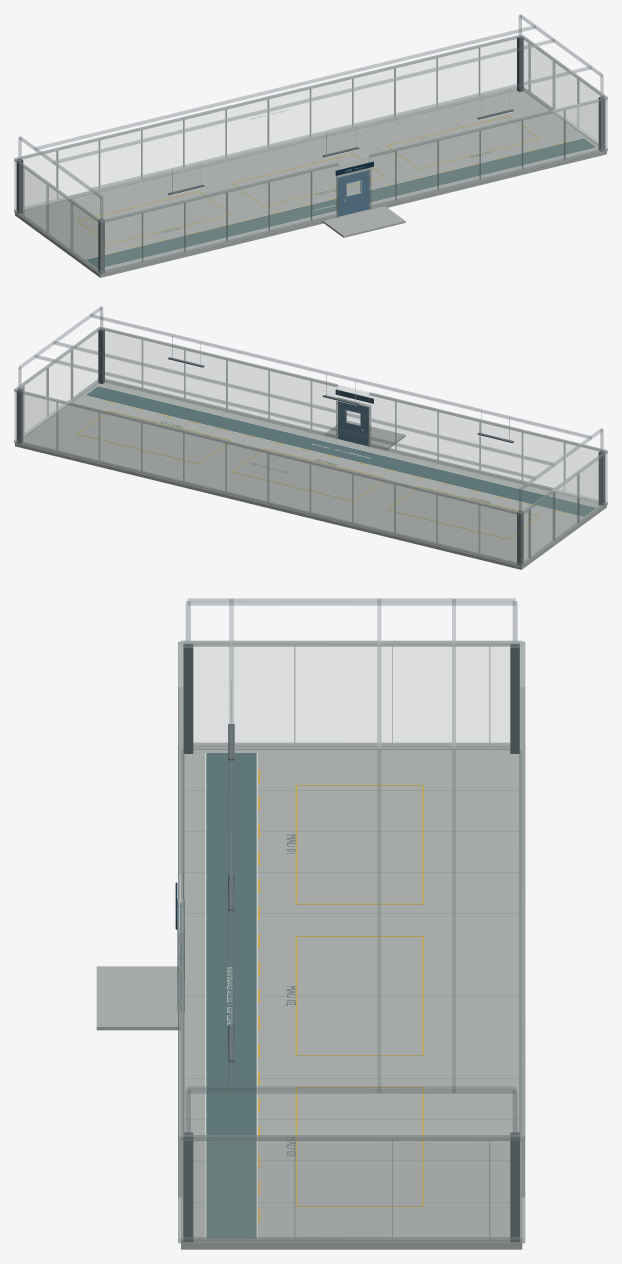
Rendered from fab1-room-mau-north.glb.
3 renders of one model, top to bottom at view 1: azimuth 30°, elevation 25°; view 2: azimuth 150°, elevation 25°; view 3: azimuth 270°, elevation 25°, orthographic. The views are drawn at different scales.
Visible parts, largest first — view 1: FAB1_Room_mau_north_Slab, FAB1_Room_mau_north_OuterWall, FAB1_Room_mau_north_CorridorWall_-18, FAB1_Room_mau_north_CorridorWall_1.1, FAB1_Room_mau_north_ServiceAisle, FAB1_Room_mau_north_SideWall_-18, FAB1_Room_mau_north_SideWall_18, FAB1_Room_mau_north_RoofBeam_7.6, FAB1_Room_mau_north_RoofBeam_3.05, FAB1_Room_mau_north_RoofBeam_9.9, FAB1_Room_mau_north_WallBand_12_0_3.58, FAB1_Room_mau_north_WallBand_12_0_0.09 (+17 smaller); view 2: FAB1_Room_mau_north_Slab, FAB1_Room_mau_north_OuterWall, FAB1_Room_mau_north_CorridorWall_1.1, FAB1_Room_mau_north_CorridorWall_-18, FAB1_Room_mau_north_ServiceAisle, FAB1_Room_mau_north_SideWall_-18, FAB1_Room_mau_north_SideWall_18, FAB1_Room_mau_north_WallBand_12_0_0.09, FAB1_Room_mau_north_RoofBeam_3.05, FAB1_Room_mau_north_RoofBeam_7.6, FAB1_Room_mau_north_RoofBeam_9.9, FAB1_Room_mau_north_WallBand_12_0_3.58 (+18 smaller); view 3: FAB1_Room_mau_north_Slab, FAB1_Room_mau_north_SideWall_18, FAB1_Room_mau_north_SideWall_-18, FAB1_Room_mau_north_ServiceAisle, FAB1_Room_mau_north_EntryApron, FAB1_Room_mau_north_WallBand_12_0_3.58, FAB1_Room_mau_north_SideBand_18_0_0.09, FAB1_Room_mau_north_RoofSideBeam_17.78, FAB1_Room_mau_north_RoofSideBeam_-17.78, FAB1_Room_mau_north_SideBand_-18_0_0.09, FAB1_Room_mau_north_RoofBeam_3.05, FAB1_Room_mau_north_SideBand_-18_0_3.58 (+11 smaller).
Boxes of the visible parts, x1,y1,x2,y2 form: FAB1_Room_mau_north_Slab: (15,90,606,277); FAB1_Room_mau_north_OuterWall: (15,35,518,208); FAB1_Room_mau_north_CorridorWall_-18: (100,163,338,272); FAB1_Room_mau_north_CorridorWall_1.1: (369,98,606,206); FAB1_Room_mau_north_ServiceAisle: (86,138,595,268); FAB1_Room_mau_north_SideWall_-18: (14,159,99,274); FAB1_Room_mau_north_SideWall_18: (523,36,607,148); FAB1_Room_mau_north_RoofBeam_7.6: (53,39,554,163); FAB1_Room_mau_north_RoofBeam_3.05: (90,66,591,190); FAB1_Room_mau_north_RoofBeam_9.9: (35,25,535,150); FAB1_Room_mau_north_WallBand_12_0_3.58: (15,35,520,160); FAB1_Room_mau_north_WallBand_12_0_0.09: (15,87,516,211); FAB1_Room_mau_north_Slab: (15,382,606,569); FAB1_Room_mau_north_OuterWall: (15,390,521,563); FAB1_Room_mau_north_CorridorWall_1.1: (104,328,337,437); FAB1_Room_mau_north_CorridorWall_-18: (369,392,606,500); FAB1_Room_mau_north_ServiceAisle: (86,386,595,516); FAB1_Room_mau_north_SideWall_-18: (522,453,607,566); FAB1_Room_mau_north_SideWall_18: (14,328,98,440); FAB1_Room_mau_north_WallBand_12_0_0.09: (14,440,521,566); FAB1_Room_mau_north_RoofBeam_3.05: (90,314,591,438); FAB1_Room_mau_north_RoofBeam_7.6: (53,341,554,465); FAB1_Room_mau_north_RoofBeam_9.9: (35,355,535,479); FAB1_Room_mau_north_WallBand_12_0_3.58: (14,389,521,515); FAB1_Room_mau_north_Slab: (181,749,522,1249); FAB1_Room_mau_north_SideWall_18: (181,1135,521,1243); FAB1_Room_mau_north_SideWall_-18: (184,641,518,749); FAB1_Room_mau_north_ServiceAisle: (206,753,256,1238); FAB1_Room_mau_north_EntryApron: (96,966,180,1030); FAB1_Room_mau_north_WallBand_12_0_3.58: (519,641,525,1139); FAB1_Room_mau_north_SideBand_18_0_0.09: (181,1237,522,1244); FAB1_Room_mau_north_RoofSideBeam_17.78: (188,1086,515,1093); FAB1_Room_mau_north_RoofSideBeam_-17.78: (188,598,515,605); FAB1_Room_mau_north_SideBand_-18_0_0.09: (193,742,510,749); FAB1_Room_mau_north_RoofBeam_3.05: (229,599,233,1092); FAB1_Room_mau_north_SideBand_-18_0_3.58: (181,640,521,646).
Size of what is drawn, in the model's own units: 36.18 by 5.42 by 13.19.
6 materials, 1 textured.
